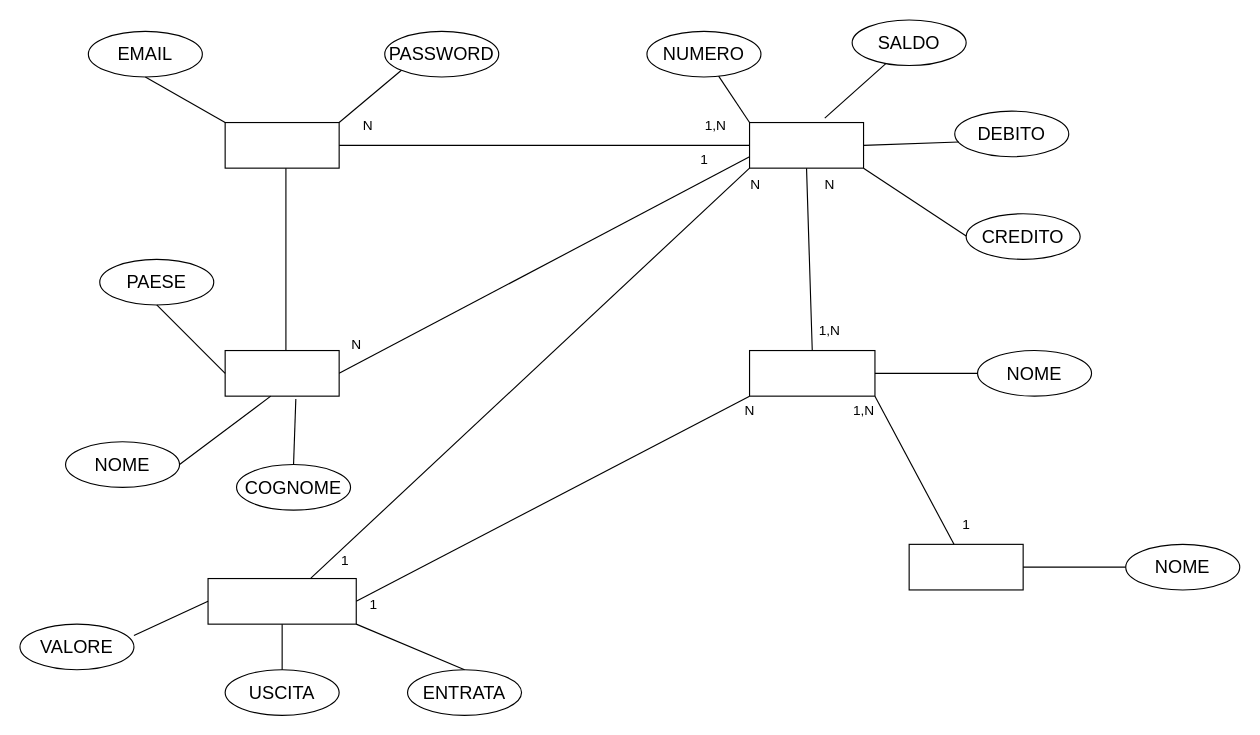
This 1260x735 diagram has some shape labels left out. Each missing label, with the centre of its shape:
CARTA: point 806,144
CATEGORIA: point 965,566
PERSONA: point 281,372
PORTAFOGLI: point 811,372
TRANSAZIONE: point 281,600
UTENTE: point 281,144
